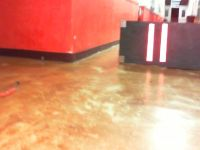switch: (145, 23, 155, 62), (159, 23, 168, 62)
